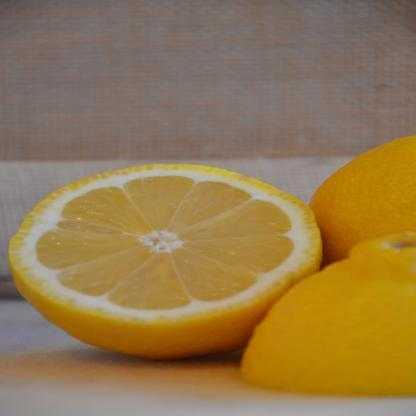lemon: (7, 160, 322, 357), (238, 230, 416, 398), (307, 132, 416, 262)
